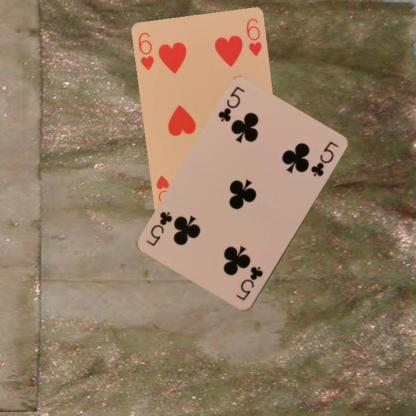5c: (216, 84, 247, 124), (233, 264, 264, 302)
6h: (135, 30, 156, 72)
